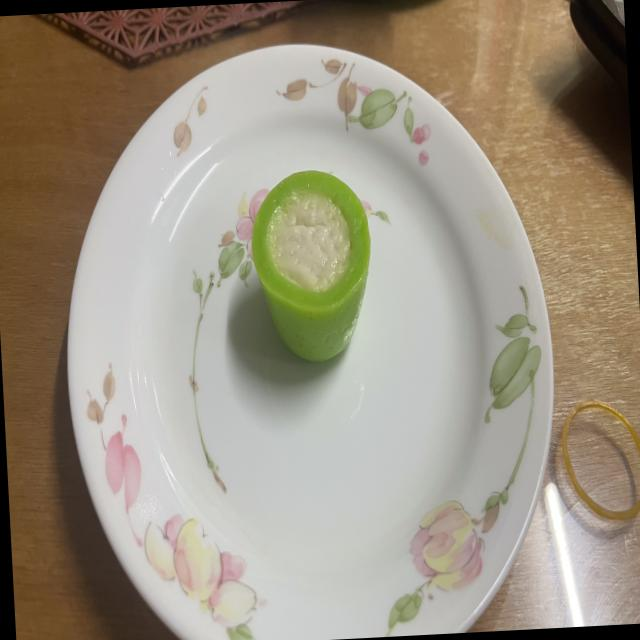nona-manis: (252, 171, 370, 361)
